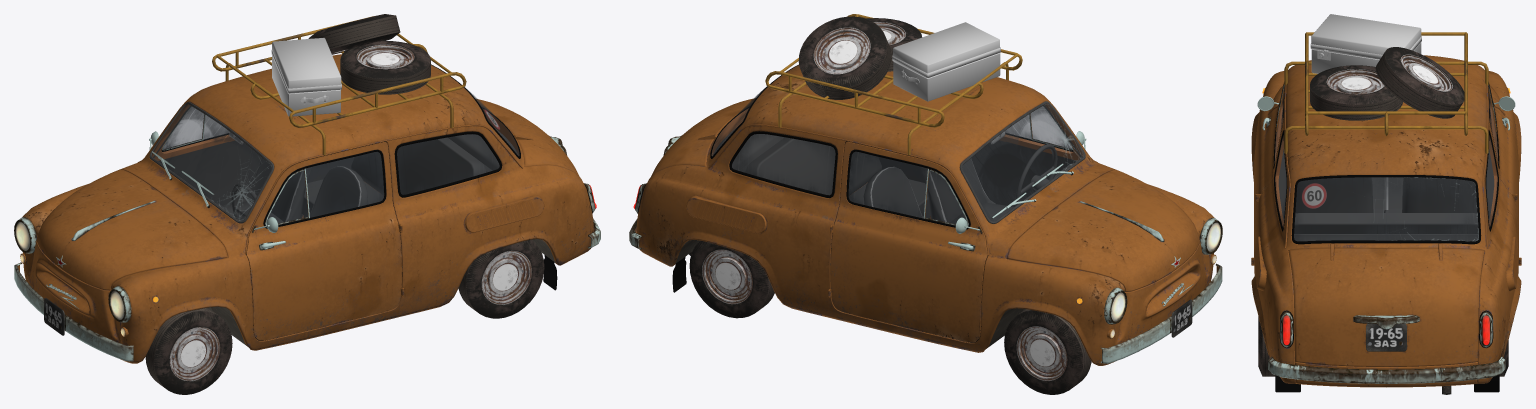
3 renders of one model, left to right at view 1: azimuth 30°, elevation 25°; view 2: azimuth 150°, elevation 25°; view 3: azimuth 270°, elevation 25°, orthographic. The views are drawn at different scales.
Visible parts, largest first — view 1: car_body_body_0_4, door_left_body_0_13, hood_body_0_33, car_body_glass_0_5, interior_01_interior_0_39, wheel_00_wheels_0_67, wheel_01_wheels_0_73, door_right_interior_0_18, wheel_004_wheels_0_69, glass_00_glass_0_23, railings_body_0_57, chest_top_chest_0_9 (+11 smaller); view 2: car_body_body_0_4, door_right_body_0_17, hood_body_0_33, car_body_glass_0_5, interior_01_interior_0_39, wheel_005_wheels_0_71, wheel_03_wheels_0_77, wheel_02_wheels_0_75, glass_01_glass_0_25, door_left_interior_0_14, chest_top_chest_0_9, railings_body_0_57 (+12 smaller); view 3: car_body_body_0_4, back_door_body_0_0, car_body_glass_0_5, interior_01_interior_0_39, wheel_005_wheels_0_71, wheel_004_wheels_0_69, rear_bumper_body_0_59, chest_top_chest_0_9, railings_body_0_57, car_body_rubber_0_6, door_left_body_0_13, door_right_body_0_17 (+4 smaller).
Boxes of the visible parts, box(x1,y1,x2,y2) form: car_body_body_0_4: box(14, 54, 595, 363); door_left_body_0_13: box(246, 142, 404, 340); hood_body_0_33: box(36, 169, 227, 290); car_body_glass_0_5: box(151, 89, 519, 220); interior_01_interior_0_39: box(152, 104, 519, 267); wheel_00_wheels_0_67: box(145, 308, 232, 394); wheel_01_wheels_0_73: box(458, 239, 544, 318); door_right_interior_0_18: box(154, 134, 261, 205); wheel_004_wheels_0_69: box(340, 41, 430, 94); glass_00_glass_0_23: box(305, 151, 384, 217); railings_body_0_57: box(212, 16, 466, 155); chest_top_chest_0_9: box(271, 38, 341, 93); car_body_body_0_4: box(635, 65, 1222, 365); door_right_body_0_17: box(828, 141, 987, 342); hood_body_0_33: box(1006, 169, 1199, 291); car_body_glass_0_5: box(711, 87, 1083, 221); interior_01_interior_0_39: box(712, 104, 1083, 281); wheel_005_wheels_0_71: box(798, 16, 891, 99); wheel_03_wheels_0_77: box(1004, 309, 1091, 394); wheel_02_wheels_0_75: box(689, 240, 774, 318); glass_01_glass_0_25: box(848, 151, 927, 218); door_left_interior_0_14: box(971, 134, 1080, 206); chest_top_chest_0_9: box(892, 22, 1000, 77); railings_body_0_57: box(765, 14, 1022, 155); car_body_body_0_4: box(1251, 55, 1521, 387); back_door_body_0_0: box(1288, 243, 1484, 366); car_body_glass_0_5: box(1275, 135, 1497, 241); interior_01_interior_0_39: box(1275, 107, 1497, 249); wheel_005_wheels_0_71: box(1375, 47, 1464, 118); wheel_004_wheels_0_69: box(1310, 65, 1402, 120); rear_bumper_body_0_59: box(1268, 356, 1505, 383); chest_top_chest_0_9: box(1310, 14, 1421, 59); railings_body_0_57: box(1284, 32, 1488, 153); car_body_rubber_0_6: box(1274, 130, 1499, 392); door_left_body_0_13: box(1251, 85, 1285, 263); door_right_body_0_17: box(1487, 85, 1521, 263).
Bounding box in the file's own units: 329 × 169 × 147.
